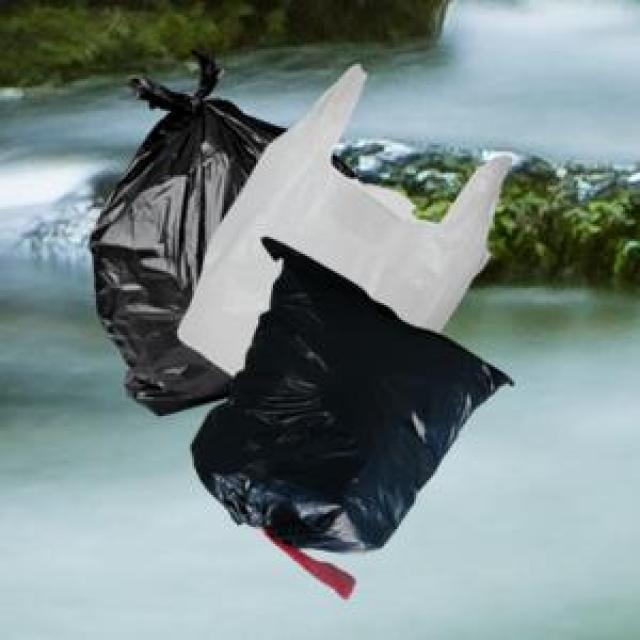miscellaneous trash: (188, 233, 510, 595), (85, 45, 353, 412)
